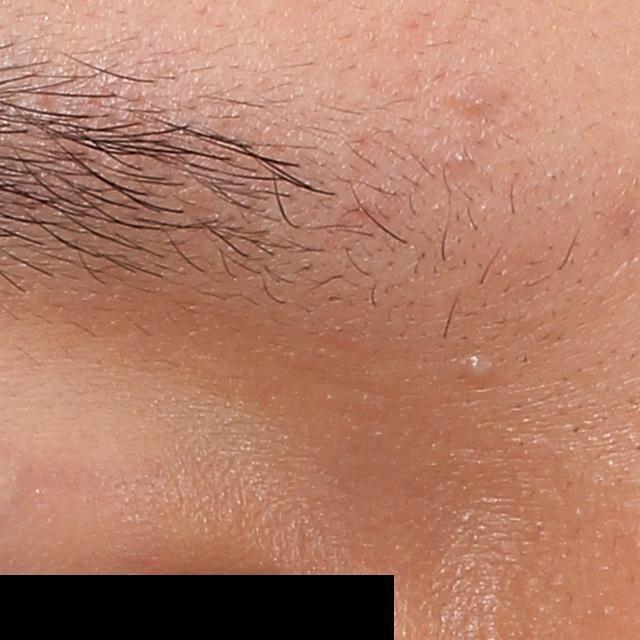comedo: (447, 146, 482, 173)
other: (450, 342, 513, 391)
